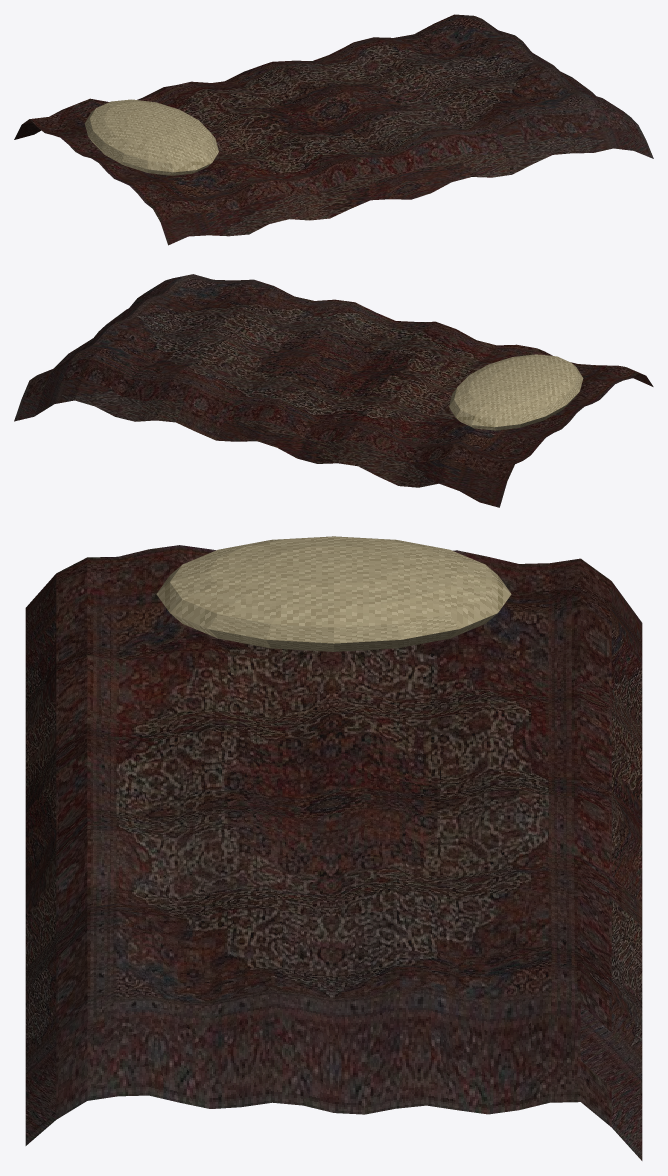
Rendered from level_bedding_single.glb.
The picture shows the model from 3 angles, top to bottom: view 1: azimuth 30°, elevation 25°; view 2: azimuth 150°, elevation 25°; view 3: azimuth 270°, elevation 25°; orthographic projection. The views are drawn at different scales.
Parts seen in each view (by area): view 1: level_bedding_single; view 2: level_bedding_single; view 3: level_bedding_single.
Boxes of the visible parts, left/top/right/bottom form: level_bedding_single: left=14, top=14, right=653, bottom=245; level_bedding_single: left=14, top=274, right=653, bottom=507; level_bedding_single: left=25, top=536, right=642, bottom=1160.
Bounding box in the file's own units: 2.4 × 0.4353 × 1.32.
Materials: 2 (2 with a texture image).
